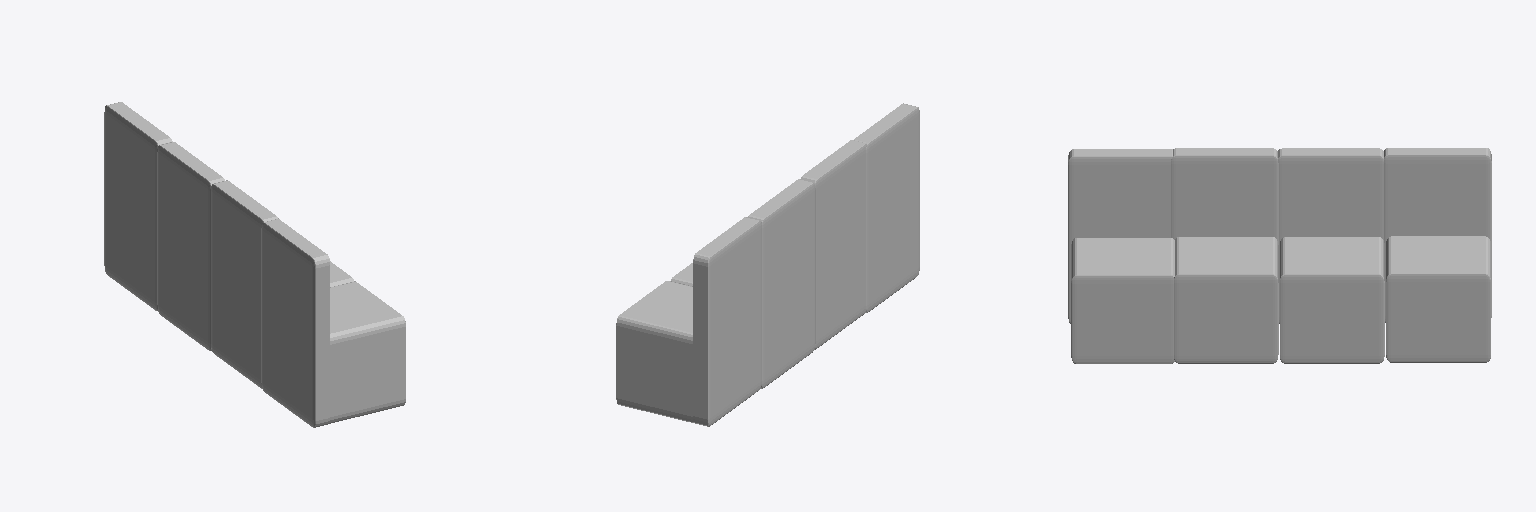
The model's file is LCouch.obj.
3 views of the same model, side by side, from view 1: azimuth 30°, elevation 25°; view 2: azimuth 150°, elevation 25°; view 3: azimuth 270°, elevation 25° (orthographic).
Parts seen in each view (by area): view 1: Cube.004_Material; view 2: Cube.004_Material; view 3: Cube.004_Material.
Boxes of the visible parts, x1=… form: Cube.004_Material: x1=104, y1=102, x2=405, y2=427; Cube.004_Material: x1=616, y1=103, x2=919, y2=426; Cube.004_Material: x1=1068, y1=148, x2=1491, y2=363.
Size of the model in its own units: 1.43 by 2.52 by 5.61.